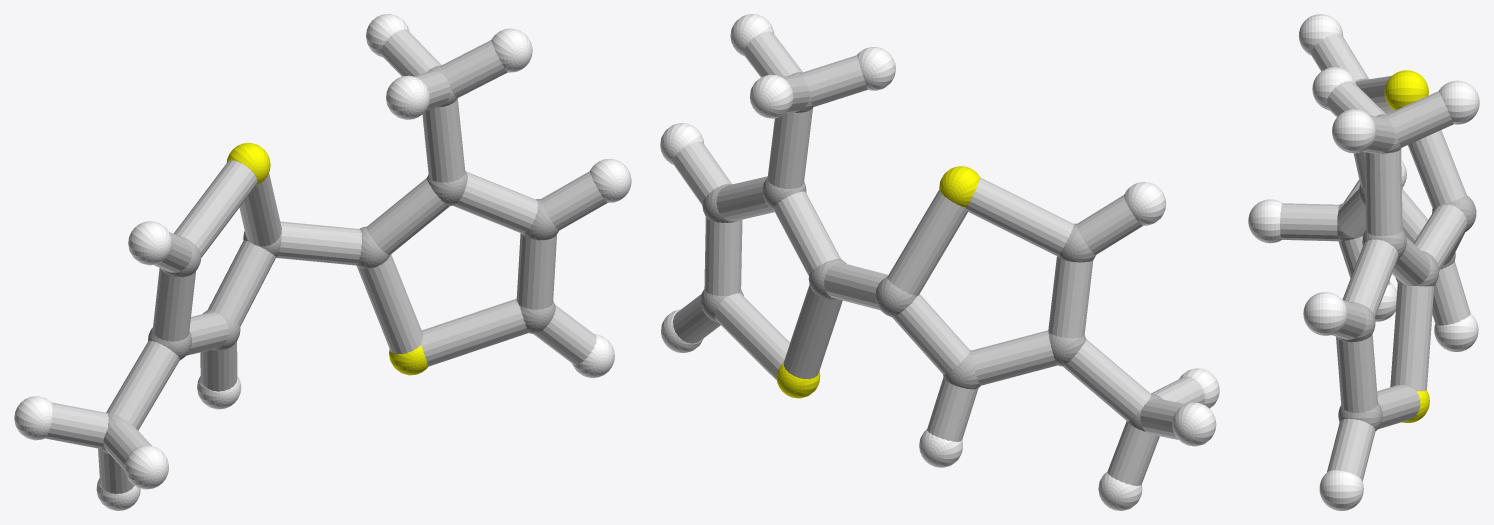
Rendered from Methylthiophene_Phi_50_Theta_0_Methylthiophene.glb.
3 views of the same model, side by side, from view 1: azimuth 30°, elevation 25°; view 2: azimuth 150°, elevation 25°; view 3: azimuth 270°, elevation 25° (orthographic).
Visible parts, largest first — view 1: grp7965, grp3621, grp1, grp7241; view 2: grp7965, grp3621, grp1, grp7241; view 3: grp7965, grp3621, grp1, grp7241.
Part boxes in pixels (x1,y1,x2,y2): grp7965: (45,29,607,493); grp3621: (14,14,631,510); grp1: (100,65,558,453); grp7241: (226,143,428,375); grp7965: (673,31,1204,486); grp3621: (660,14,1219,510); grp1: (700,72,1162,431); grp7241: (776,166,980,398); grp7965: (1280,34,1470,481); grp3621: (1248,14,1479,510); grp1: (1336,78,1476,430); grp7241: (1384,70,1429,422).
Size of the model in its own units: 9.11 by 5.89 by 3.13.
